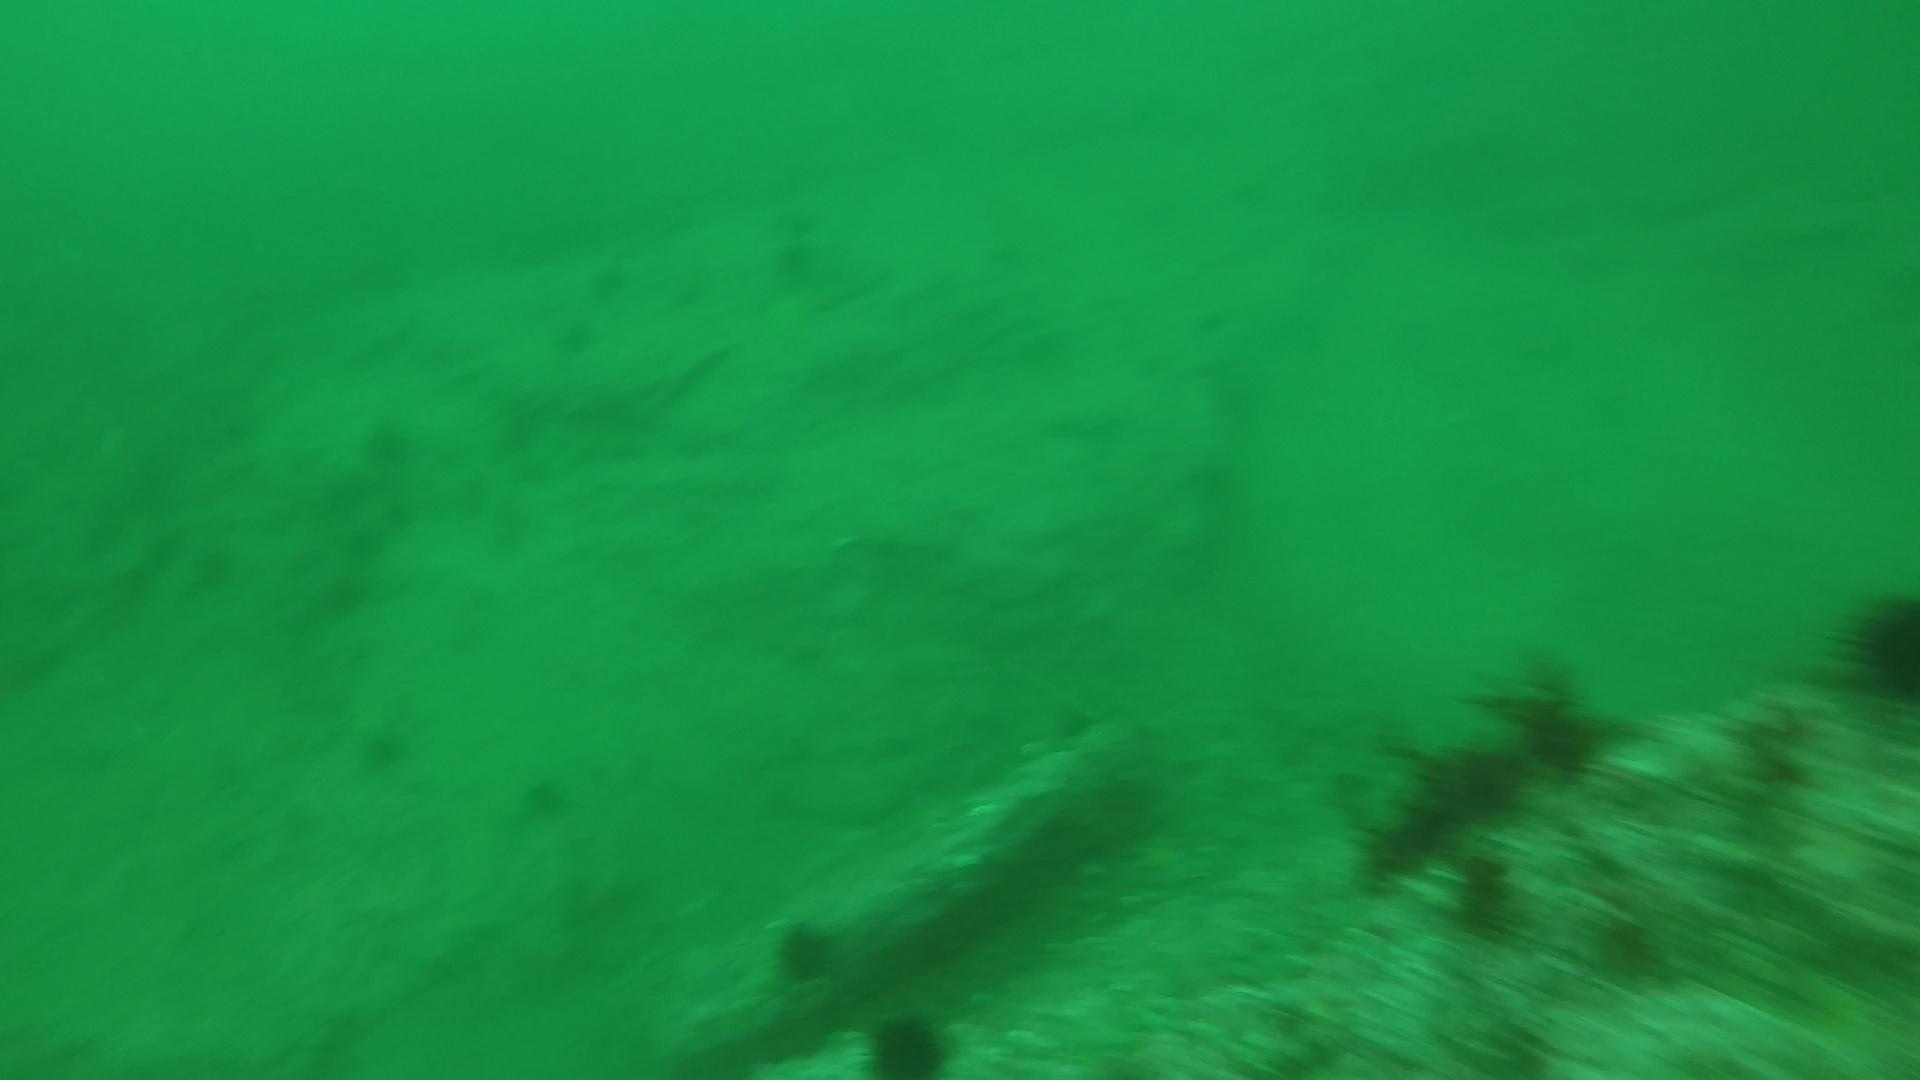echinus: (1830, 582, 1920, 705), (858, 1007, 957, 1077), (767, 915, 843, 989), (352, 717, 417, 777), (352, 415, 405, 469), (556, 313, 609, 367), (578, 258, 630, 313), (769, 237, 814, 285)
